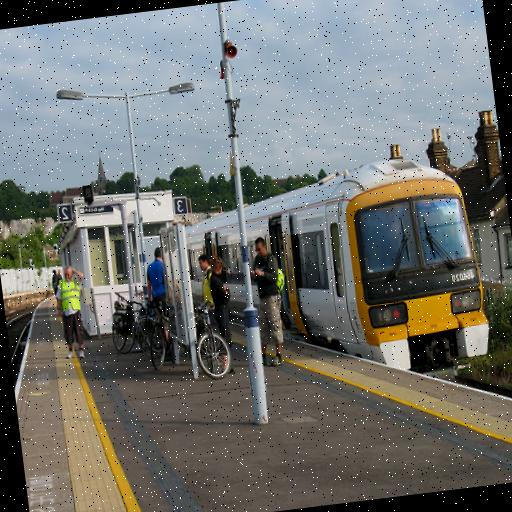platform_edge: (314, 326, 512, 483), (12, 354, 157, 512)
